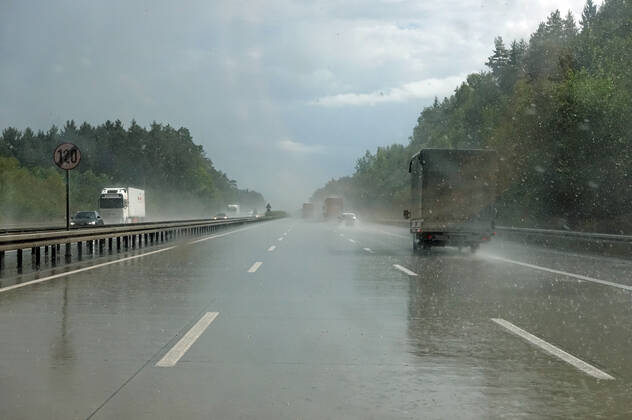aufgehoben: (52, 142, 83, 170)
